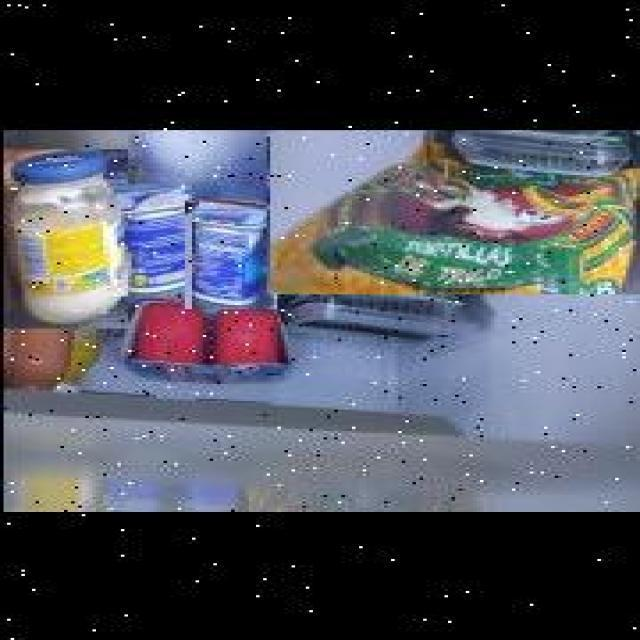mayonaise: (0, 146, 124, 325)
tortillas: (266, 127, 640, 292)
yogurt: (185, 198, 278, 308), (101, 183, 187, 294)
